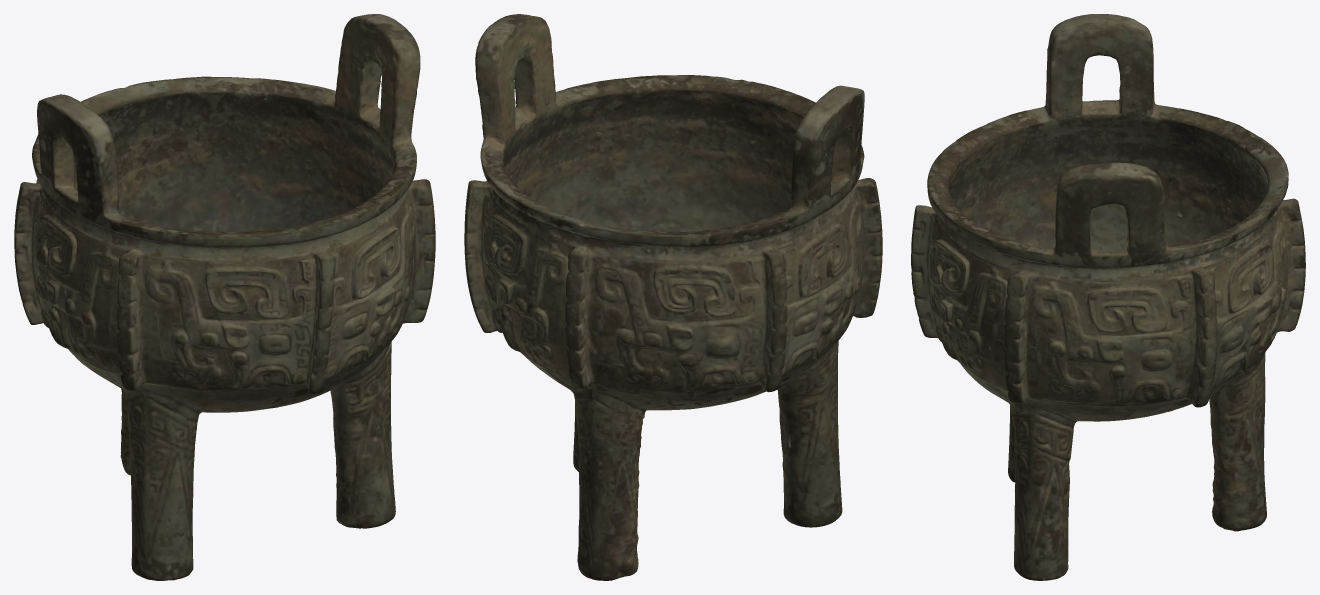
The model's file is heluo-bronze-ding-v5.5.glb.
3 renders of one model, left to right at view 1: azimuth 30°, elevation 25°; view 2: azimuth 150°, elevation 25°; view 3: azimuth 270°, elevation 25°, orthographic. The views are drawn at different scales.
Visible parts, largest first — view 1: V5_4_CMA_CC0_Object_2, V5_4_CMA_CC0_Object_3, V5_4_CMA_CC0_Object_4; view 2: V5_4_CMA_CC0_Object_3, V5_4_CMA_CC0_Object_2, V5_4_CMA_CC0_Object_4; view 3: V5_4_CMA_CC0_Object_2, V5_4_CMA_CC0_Object_3, V5_4_CMA_CC0_Object_4.
Part boxes in pixels (x1,y1,x2,y2): V5_4_CMA_CC0_Object_2: (73, 14, 435, 580); V5_4_CMA_CC0_Object_3: (14, 21, 435, 573); V5_4_CMA_CC0_Object_4: (18, 95, 351, 509); V5_4_CMA_CC0_Object_3: (464, 47, 882, 580); V5_4_CMA_CC0_Object_2: (475, 14, 882, 527); V5_4_CMA_CC0_Object_4: (484, 87, 882, 464); V5_4_CMA_CC0_Object_2: (911, 106, 1268, 580); V5_4_CMA_CC0_Object_3: (911, 14, 1305, 580); V5_4_CMA_CC0_Object_4: (1015, 15, 1273, 414).
Bounding box in the file's own units: 1.29 × 1.62 × 1.34.
1 material, 1 textured.
